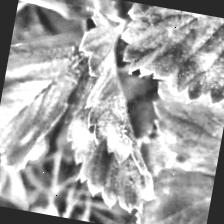Powdery Mildew Leaf: (48, 5, 188, 218)
